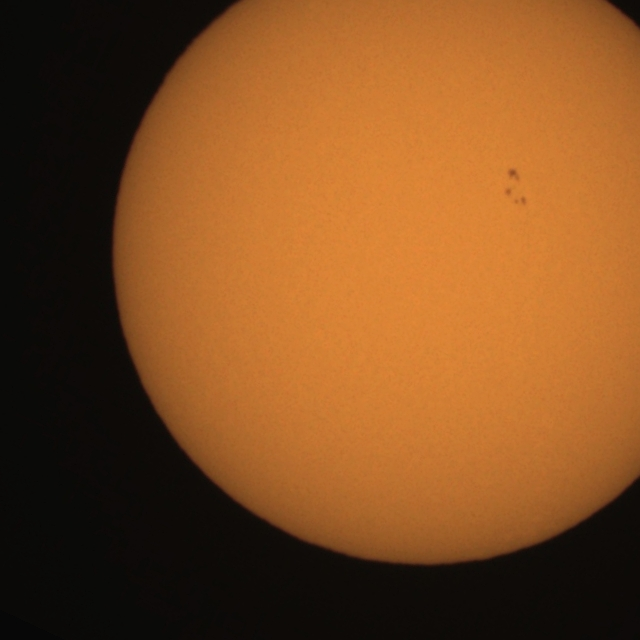sunspot: (503, 165, 528, 209), (506, 167, 521, 186)
